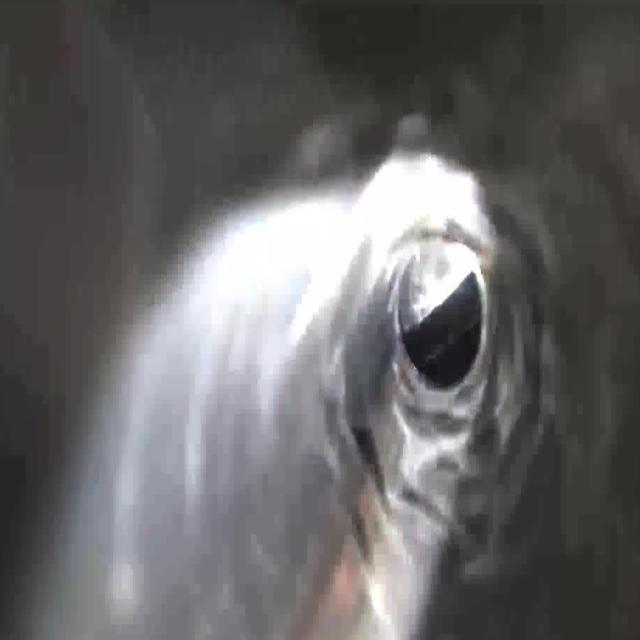crack: (491, 257, 558, 529), (381, 400, 477, 556)
